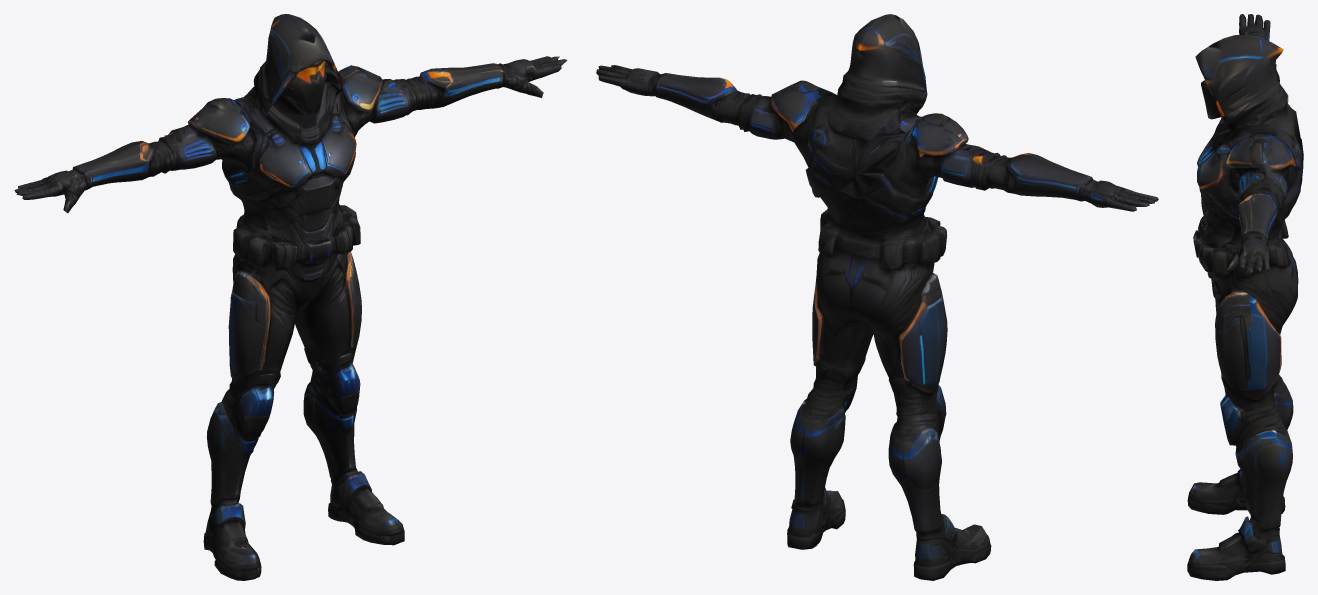
File: NexumAgentv2.fbx
3 renders of one model, left to right at view 1: azimuth 30°, elevation 25°; view 2: azimuth 150°, elevation 25°; view 3: azimuth 270°, elevation 25°, orthographic. The views are drawn at different scales.
Parts seen in each view (by area): view 1: Mesh_0; view 2: Mesh_0; view 3: Mesh_0.
Part boxes in pixels (x1,y1,x2,y2): Mesh_0: (14, 14, 567, 580); Mesh_0: (596, 14, 1158, 580); Mesh_0: (1187, 14, 1303, 580).
Size of the model in its own units: 205 by 187 by 39.16.
1 material, 1 textured.
